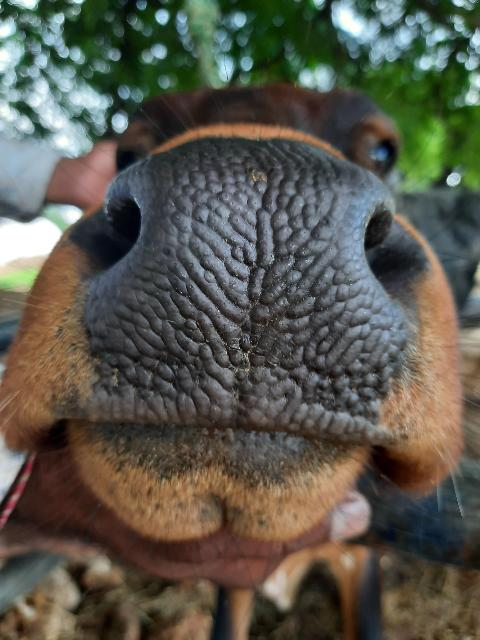Muzzle: (149, 159, 366, 423)
